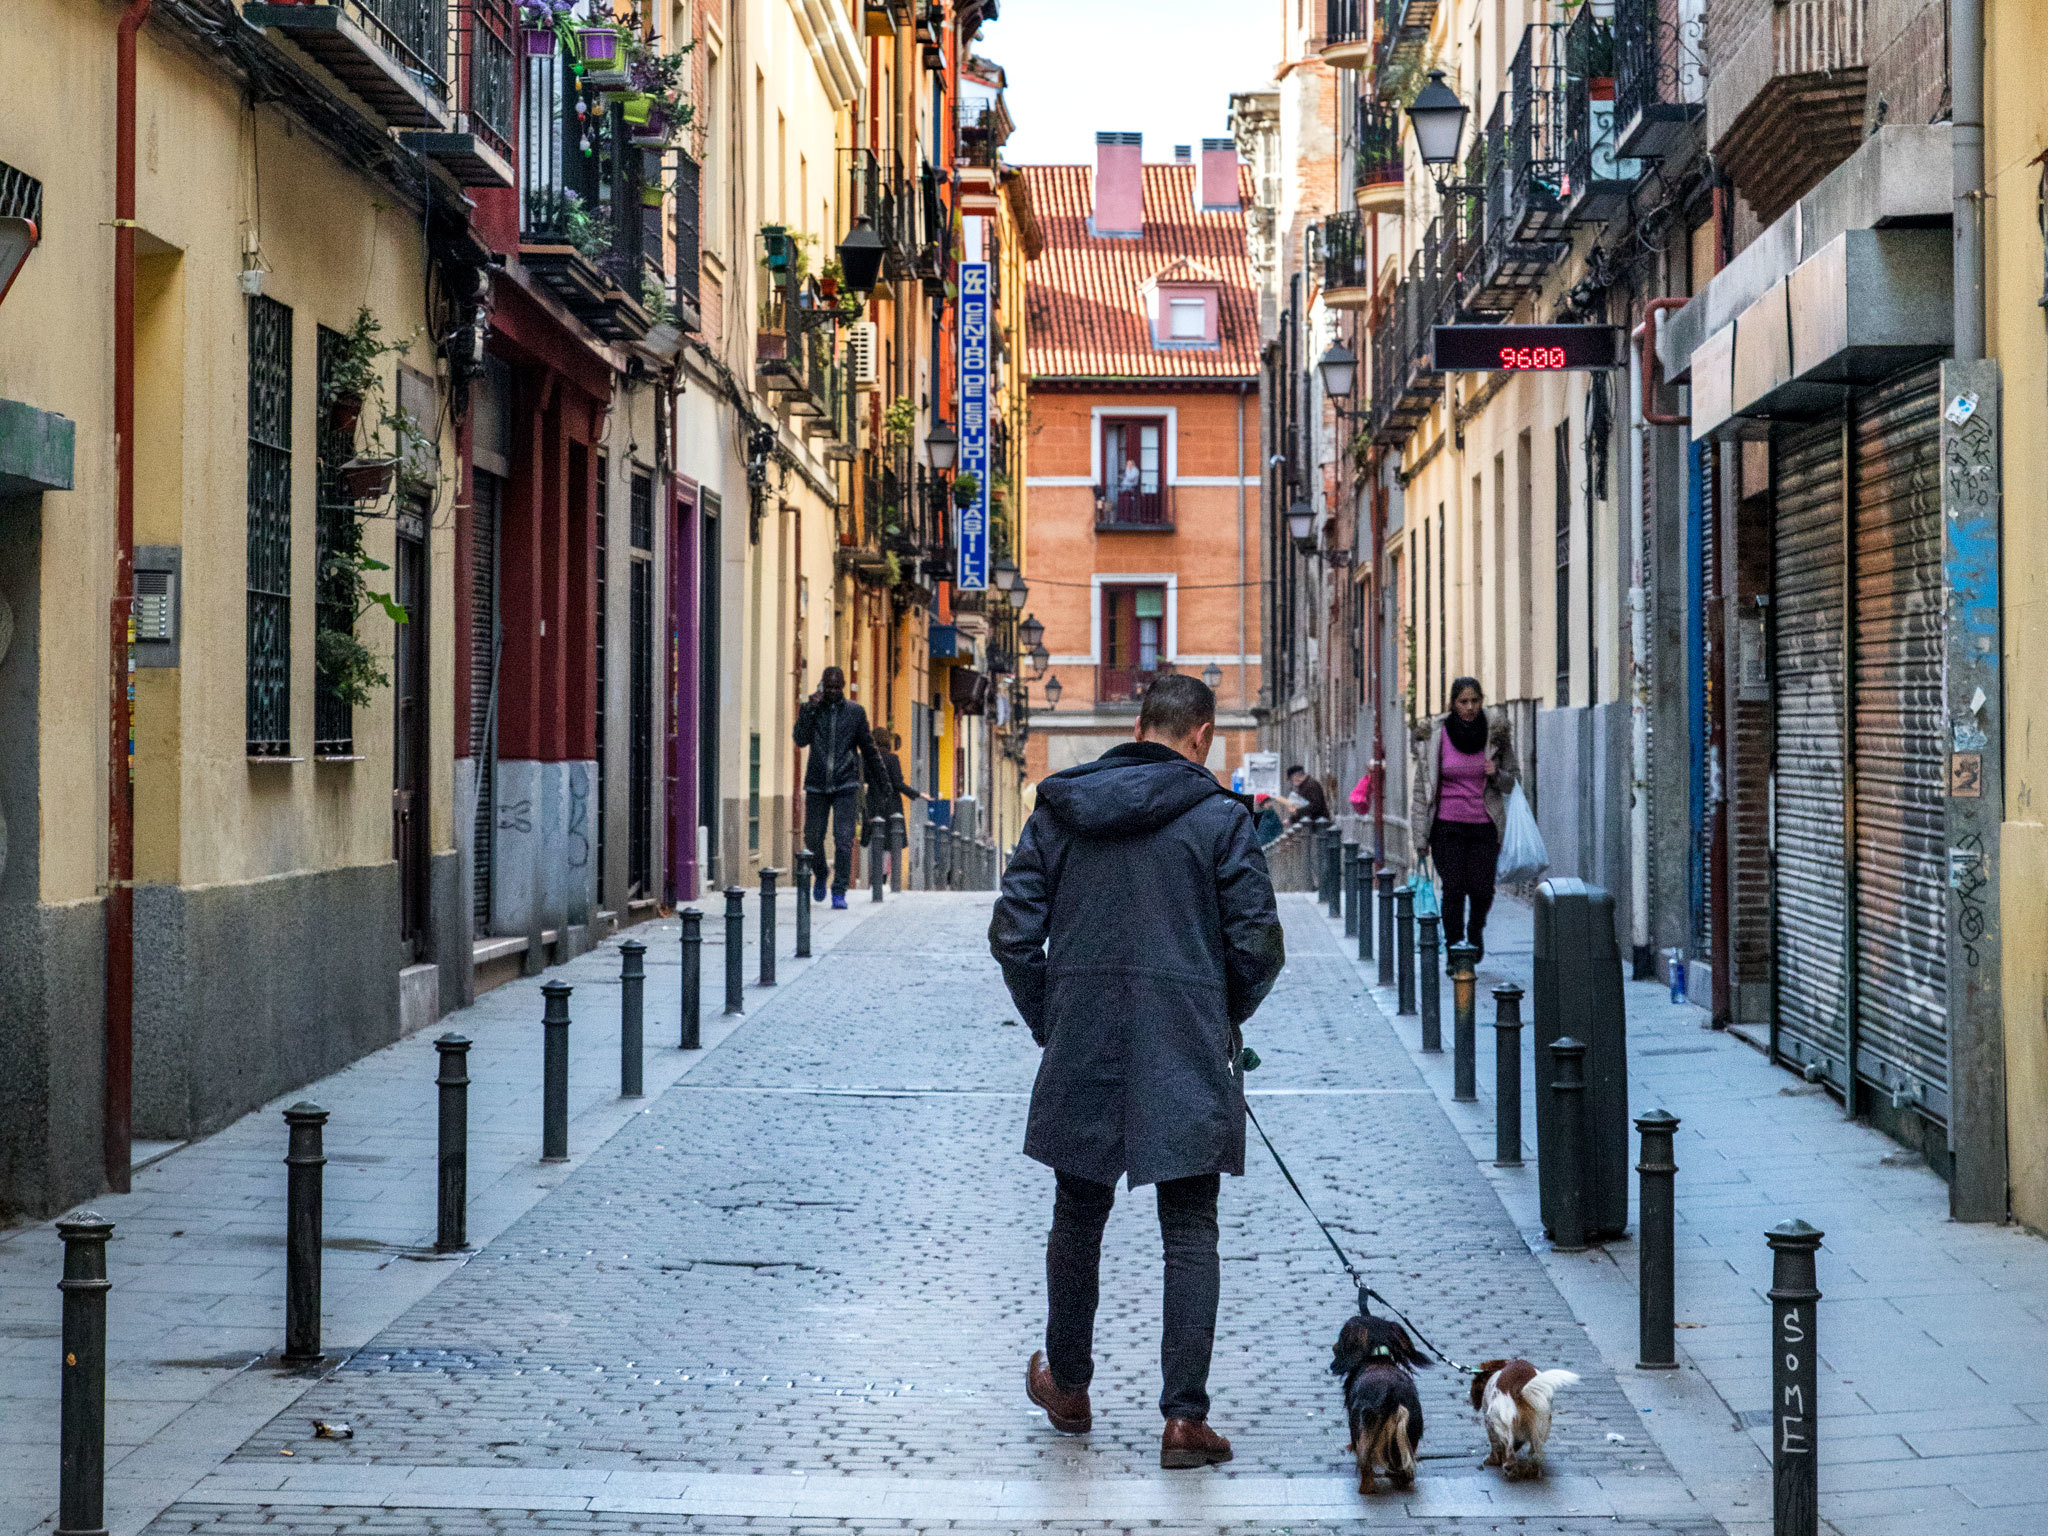dog: (1289, 1311, 1460, 1507), (1442, 1334, 1595, 1489)
person: (977, 665, 1311, 1487), (1381, 669, 1564, 985), (791, 652, 864, 918), (858, 728, 934, 881)
